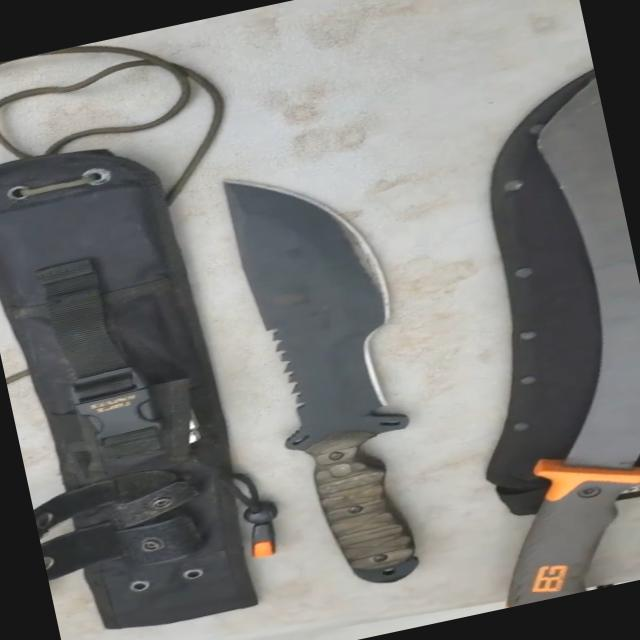knife: (183, 128, 509, 628), (377, 56, 639, 612)
